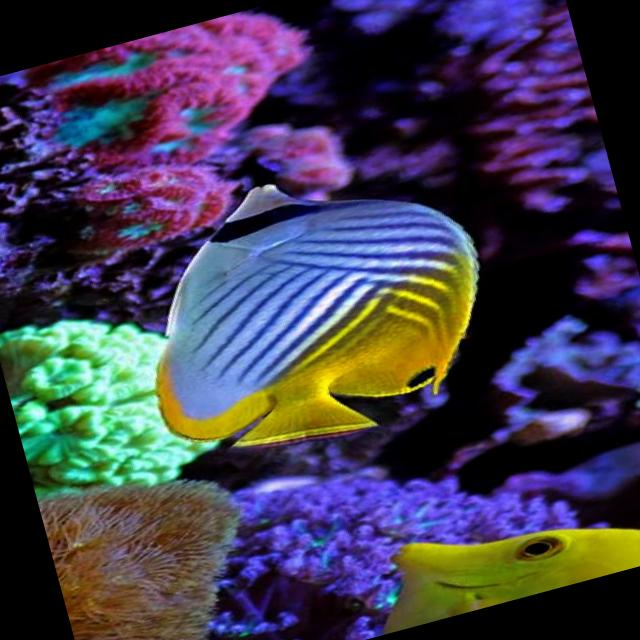ButterflyFish: (101, 132, 523, 475), (337, 469, 640, 640)
